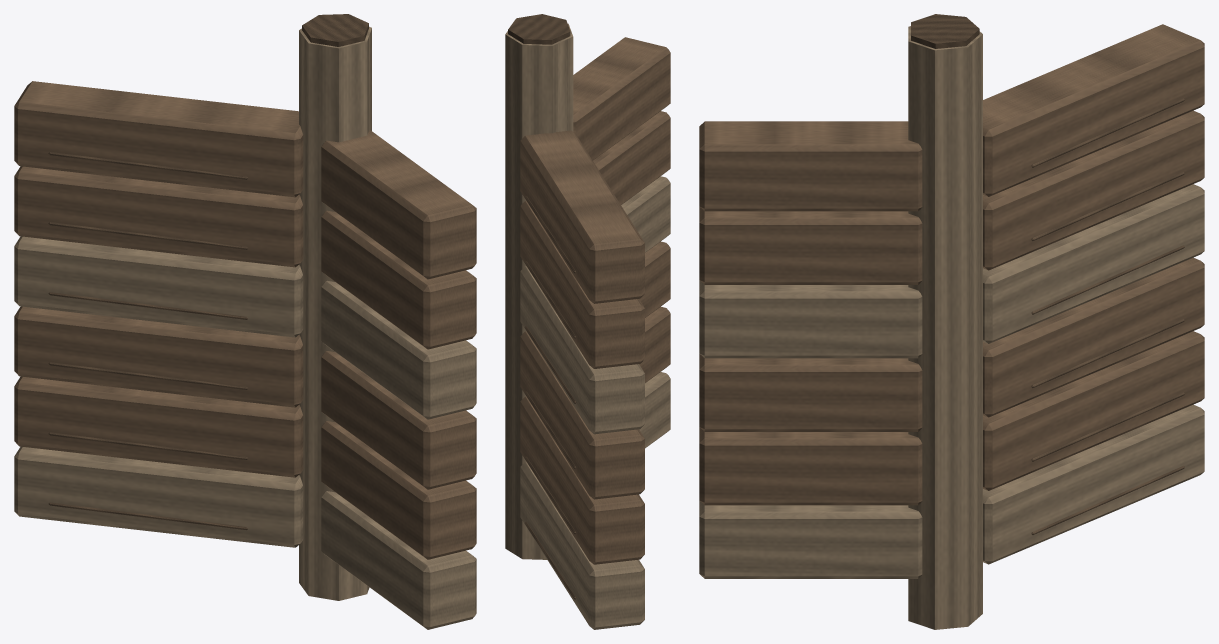
File: wall_mask_33.glb
3 views of the same model, side by side, from view 1: azimuth 30°, elevation 25°; view 2: azimuth 150°, elevation 25°; view 3: azimuth 270°, elevation 25° (orthographic). The views are drawn at different scales.
Visible parts, largest first — view 1: wall_mask_33__Weathered_timber, wall_mask_33__Timber_worn_edges, wall_mask_33__Dark_endgrain; view 2: wall_mask_33__Weathered_timber, wall_mask_33__Timber_worn_edges, wall_mask_33__Dark_endgrain; view 3: wall_mask_33__Weathered_timber, wall_mask_33__Timber_worn_edges, wall_mask_33__Dark_endgrain.
Boxes of the visible parts, bbox=[...] form: wall_mask_33__Weathered_timber: bbox=[14, 81, 476, 559]; wall_mask_33__Timber_worn_edges: bbox=[14, 26, 476, 629]; wall_mask_33__Dark_endgrain: bbox=[48, 14, 368, 530]; wall_mask_33__Weathered_timber: bbox=[520, 37, 670, 564]; wall_mask_33__Timber_worn_edges: bbox=[505, 23, 670, 629]; wall_mask_33__Dark_endgrain: bbox=[508, 14, 576, 599]; wall_mask_33__Weathered_timber: bbox=[699, 24, 1204, 505]; wall_mask_33__Timber_worn_edges: bbox=[699, 26, 1204, 629]; wall_mask_33__Dark_endgrain: bbox=[911, 14, 1184, 534].
Size of the model in its own units: 0.6463 by 1.39 by 1.09.
3 materials, 3 textured.
